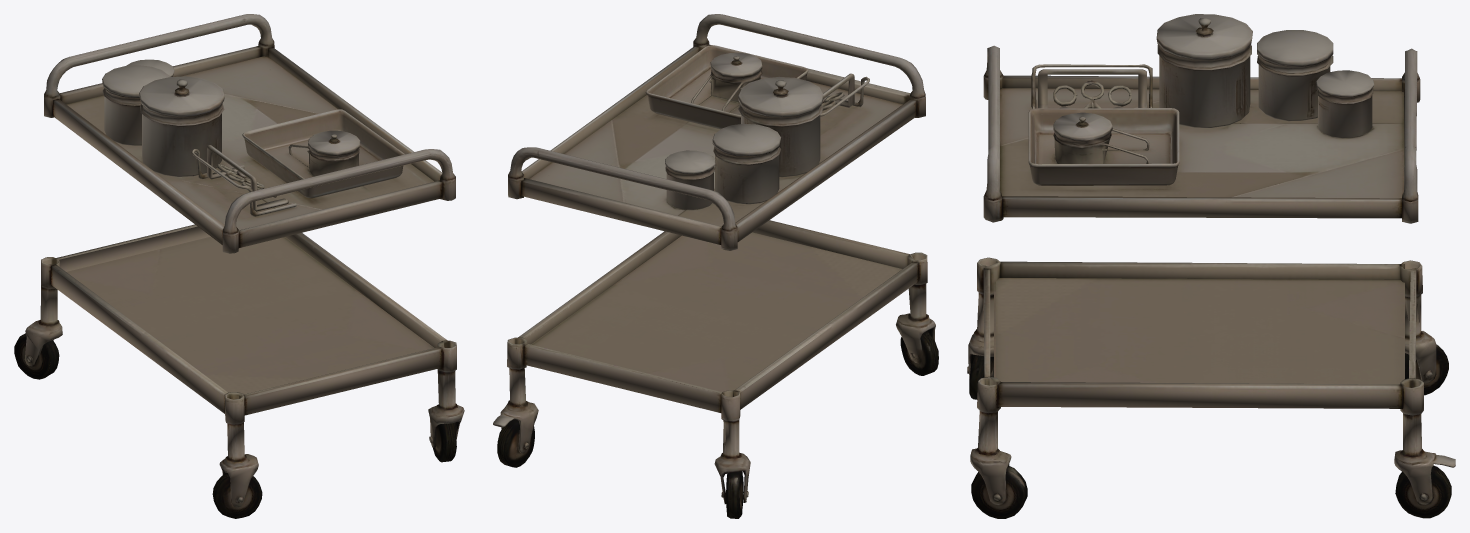
The picture shows the model from 3 angles, left to right: view 1: azimuth 30°, elevation 25°; view 2: azimuth 150°, elevation 25°; view 3: azimuth 270°, elevation 25°; orthographic projection. The views are drawn at different scales.
Visible parts, largest first — view 1: tripo_node_8b06aba1-86c8-469c-b758-4e63189e7895; view 2: tripo_node_8b06aba1-86c8-469c-b758-4e63189e7895; view 3: tripo_node_8b06aba1-86c8-469c-b758-4e63189e7895.
Boxes of the visible parts, left/top/right/bottom form: tripo_node_8b06aba1-86c8-469c-b758-4e63189e7895: left=14, top=14, right=464, bottom=518; tripo_node_8b06aba1-86c8-469c-b758-4e63189e7895: left=493, top=14, right=938, bottom=518; tripo_node_8b06aba1-86c8-469c-b758-4e63189e7895: left=967, top=14, right=1455, bottom=518.
Bounding box in the file's own units: 0.666 × 0.9121 × 0.998.
1 material, 1 textured.
